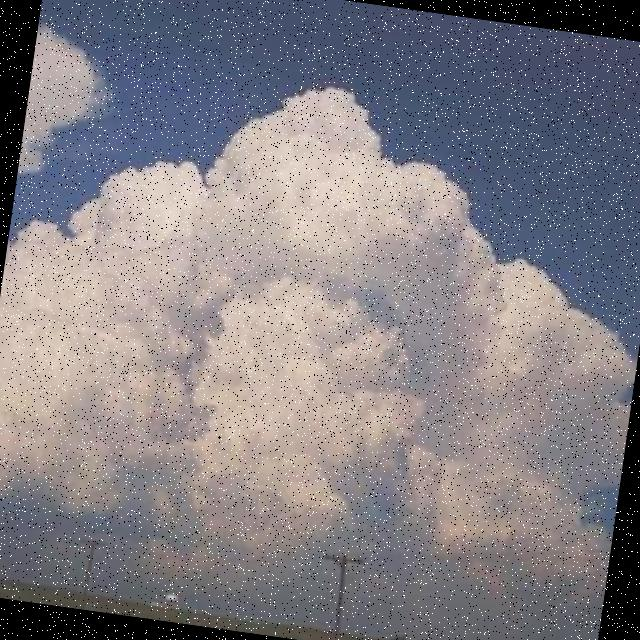Cb: (1, 20, 640, 549)
